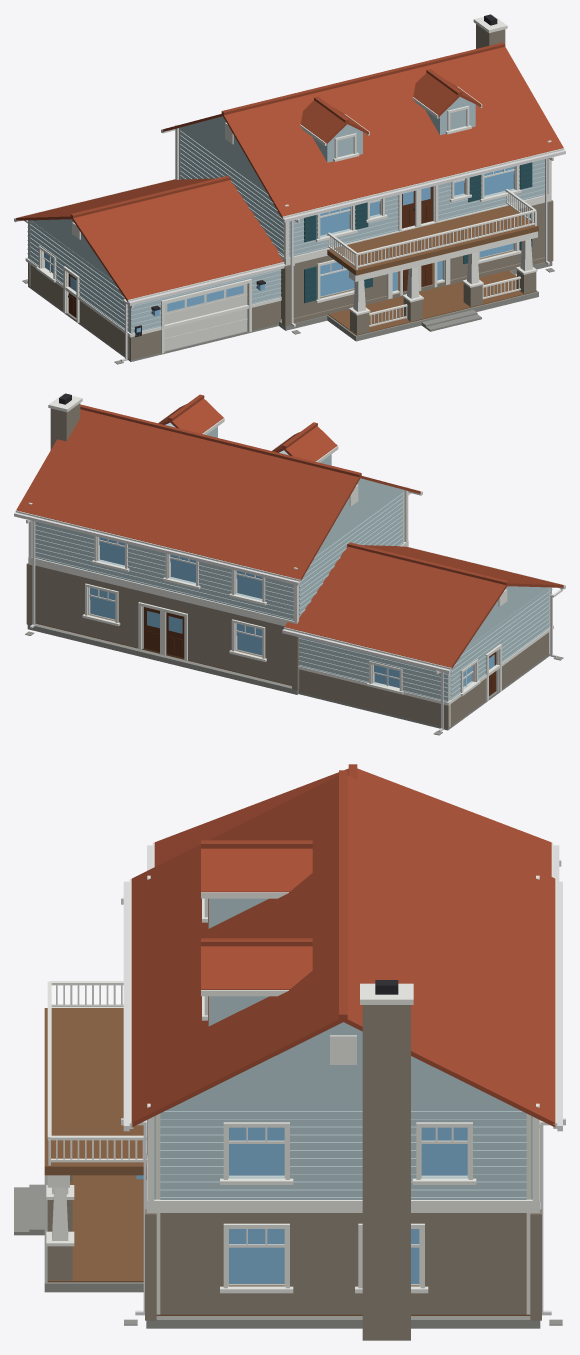
Rendered from SafeHouse.glb.
3 renders of one model, top to bottom at view 1: azimuth 30°, elevation 25°; view 2: azimuth 150°, elevation 25°; view 3: azimuth 270°, elevation 25°, orthographic. The views are drawn at different scales.
Visible parts, largest first — view 1: SafeHouse_Roof, SafeHouse_Trim, SafeHouse_Siding, SafeHouse_Stone, SafeHouse_Deck, SafeHouse_Gutter, SafeHouse_GarageDoor1, SafeHouse_Foundation, SafeHouse_Shutter, SafeHouse_Glass, SafeHouse_GarageGlass1, SafeHouse_Sash1 (+3 smaller); view 2: SafeHouse_Roof, SafeHouse_Siding, SafeHouse_Stone, SafeHouse_Trim, SafeHouse_Gutter, SafeHouse_Foundation, SafeHouse_Glass, SafeHouse_Door5, SafeHouse_Door6, SafeHouse_WallsIn; view 3: SafeHouse_Roof, SafeHouse_Stone, SafeHouse_Siding, SafeHouse_Trim, SafeHouse_Deck, SafeHouse_Foundation, SafeHouse_Gutter, SafeHouse_Glass, SafeHouse_WallsIn, SafeHouse_Sash12, SafeHouse_Sash14, SafeHouse_Sash15.
Boxes of the visible parts, box(x1,y1,x2,y2) form: SafeHouse_Roof: box(16, 42, 563, 301); SafeHouse_Trim: box(15, 14, 564, 353); SafeHouse_Siding: box(27, 97, 544, 333); SafeHouse_Stone: box(28, 24, 553, 359); SafeHouse_Deck: box(327, 205, 538, 335); SafeHouse_Gutter: box(14, 127, 565, 361); SafeHouse_GarageDoor1: box(164, 284, 247, 350); SafeHouse_Foundation: box(22, 261, 554, 364); SafeHouse_Shutter: box(304, 162, 532, 303); SafeHouse_Glass: box(44, 167, 514, 332); SafeHouse_GarageGlass1: box(167, 285, 243, 311); SafeHouse_Sash1: box(320, 273, 354, 296); SafeHouse_Roof: box(16, 394, 563, 669); SafeHouse_Siding: box(35, 422, 552, 701); SafeHouse_Stone: box(26, 403, 548, 728); SafeHouse_Trim: box(15, 393, 564, 705); SafeHouse_Gutter: box(14, 488, 565, 731); SafeHouse_Foundation: box(25, 623, 563, 735); SafeHouse_Glass: box(90, 537, 472, 677); SafeHouse_Door5: box(166, 612, 184, 657); SafeHouse_Door6: box(143, 607, 159, 651); SafeHouse_WallsIn: box(90, 491, 550, 727); SafeHouse_Roof: box(131, 764, 555, 1127); SafeHouse_Stone: box(47, 1005, 541, 1340); SafeHouse_Siding: box(154, 898, 532, 1199); SafeHouse_Trim: box(46, 842, 557, 1293); SafeHouse_Deck: box(44, 1008, 146, 1282); SafeHouse_Foundation: box(14, 1129, 562, 1328); SafeHouse_Gutter: box(121, 845, 565, 1315); SafeHouse_Glass: box(136, 1127, 467, 1254); SafeHouse_WallsIn: box(156, 1113, 530, 1314); SafeHouse_Sash12: box(229, 1255, 284, 1283); SafeHouse_Sash14: box(229, 1150, 284, 1175); SafeHouse_Sash15: box(421, 1150, 467, 1175).
Bounding box in the file's own units: 94.37 × 40.2 × 57.3.
